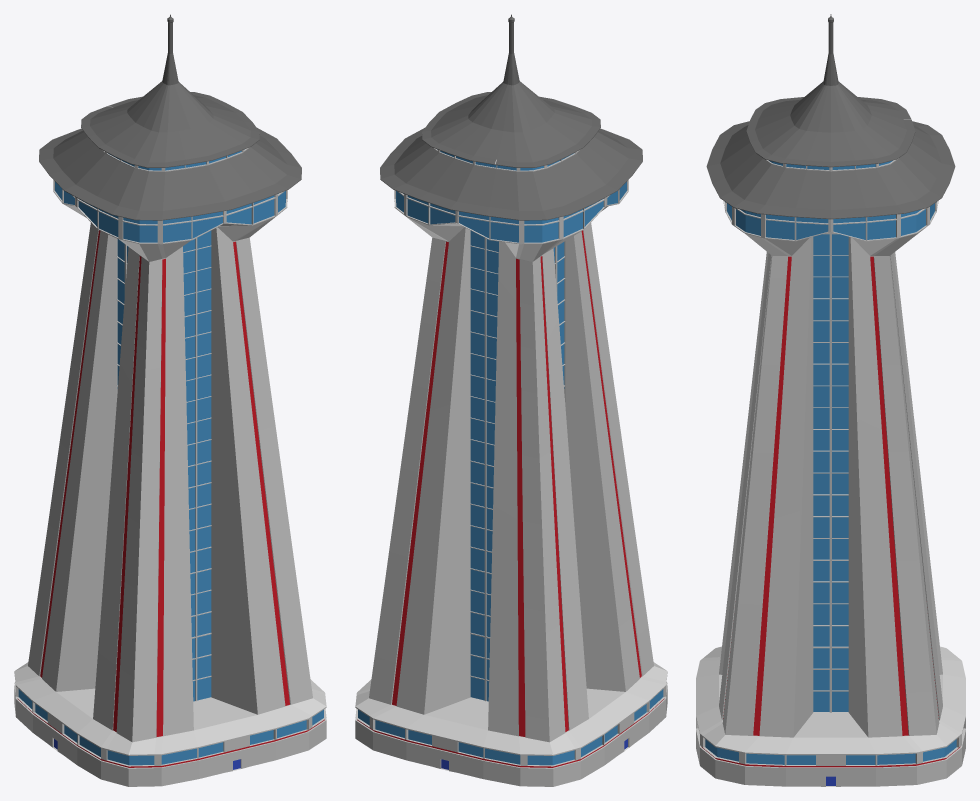
Rendered from TyranQG.fbx.
3 views of the same model, side by side, from view 1: azimuth 30°, elevation 25°; view 2: azimuth 150°, elevation 25°; view 3: azimuth 270°, elevation 25° (orthographic).
Visible parts, largest first — view 1: Cube; view 2: Cube; view 3: Cube.
Part boxes in pixels (x1,y1,x2,y2): Cube: (14,14,326,786); Cube: (355,14,667,786); Cube: (696,14,965,786).
Bounding box in the file's own units: 5106 × 14947 × 5106.
